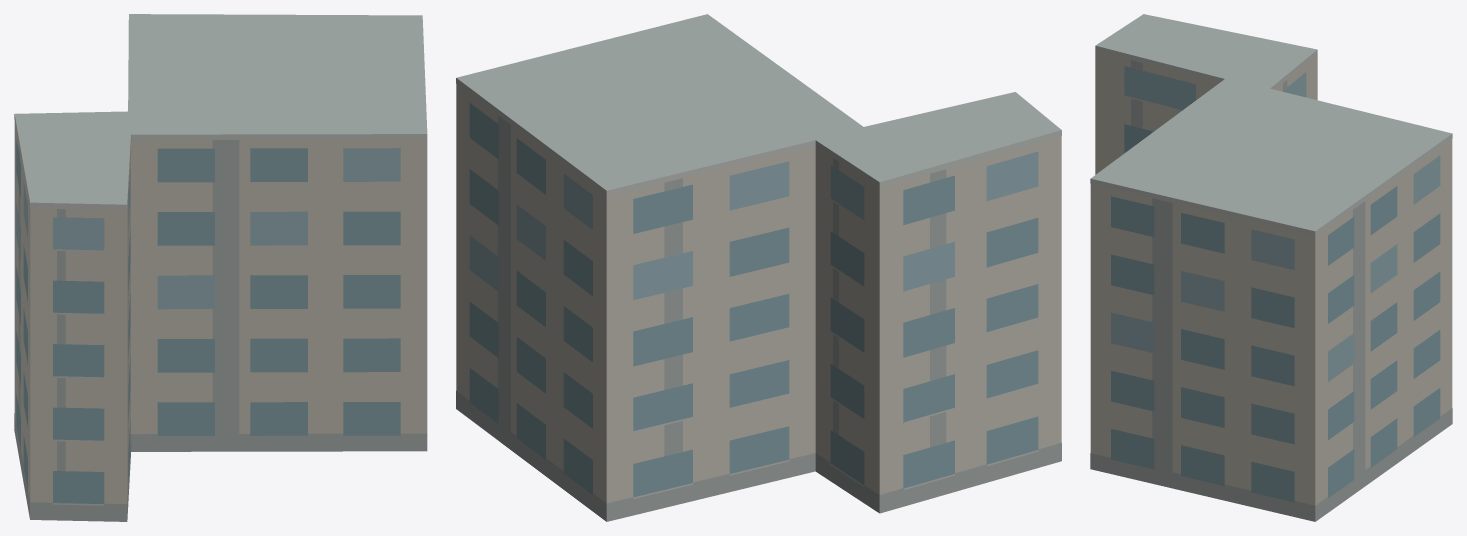
File: survey-upis-32479733.glb
3 views of the same model, side by side, from view 1: azimuth 30°, elevation 25°; view 2: azimuth 150°, elevation 25°; view 3: azimuth 270°, elevation 25° (orthographic). The views are drawn at different scales.
Parts seen in each view (by area): view 1: survey-upis-32479733.tmp; view 2: survey-upis-32479733.tmp; view 3: survey-upis-32479733.tmp.
Boxes of the visible parts, left/top/right/bottom form: survey-upis-32479733.tmp: left=14, top=14, right=427, bottom=521; survey-upis-32479733.tmp: left=456, top=14, right=1061, bottom=521; survey-upis-32479733.tmp: left=1090, top=14, right=1452, bottom=521.
Size of the model in its own units: 21.99 by 13.7 by 15.48.
